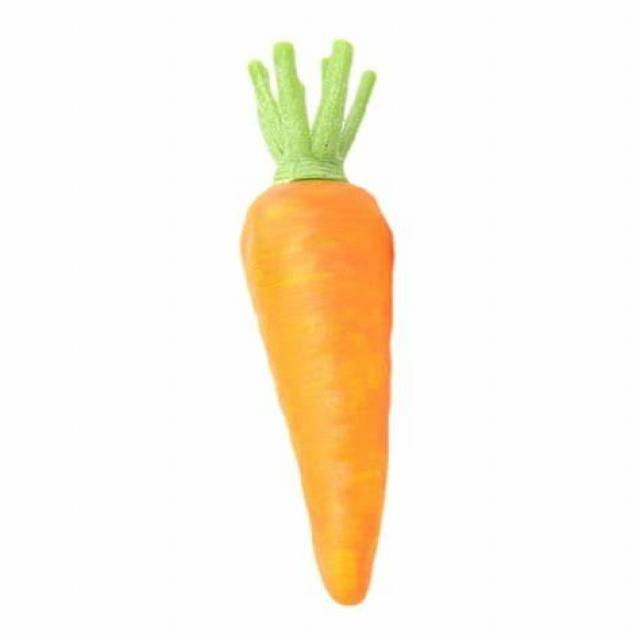Carrot: (227, 46, 406, 608)
